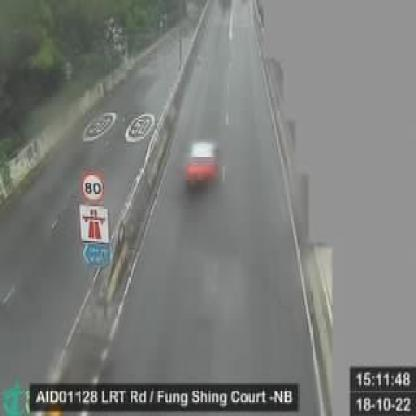Car: (183, 139, 223, 196)
